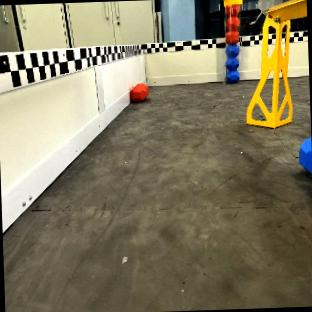V5_BLUE: (226, 44, 239, 81), (299, 137, 312, 173)
V5_RED: (226, 3, 240, 43), (129, 84, 148, 102)
